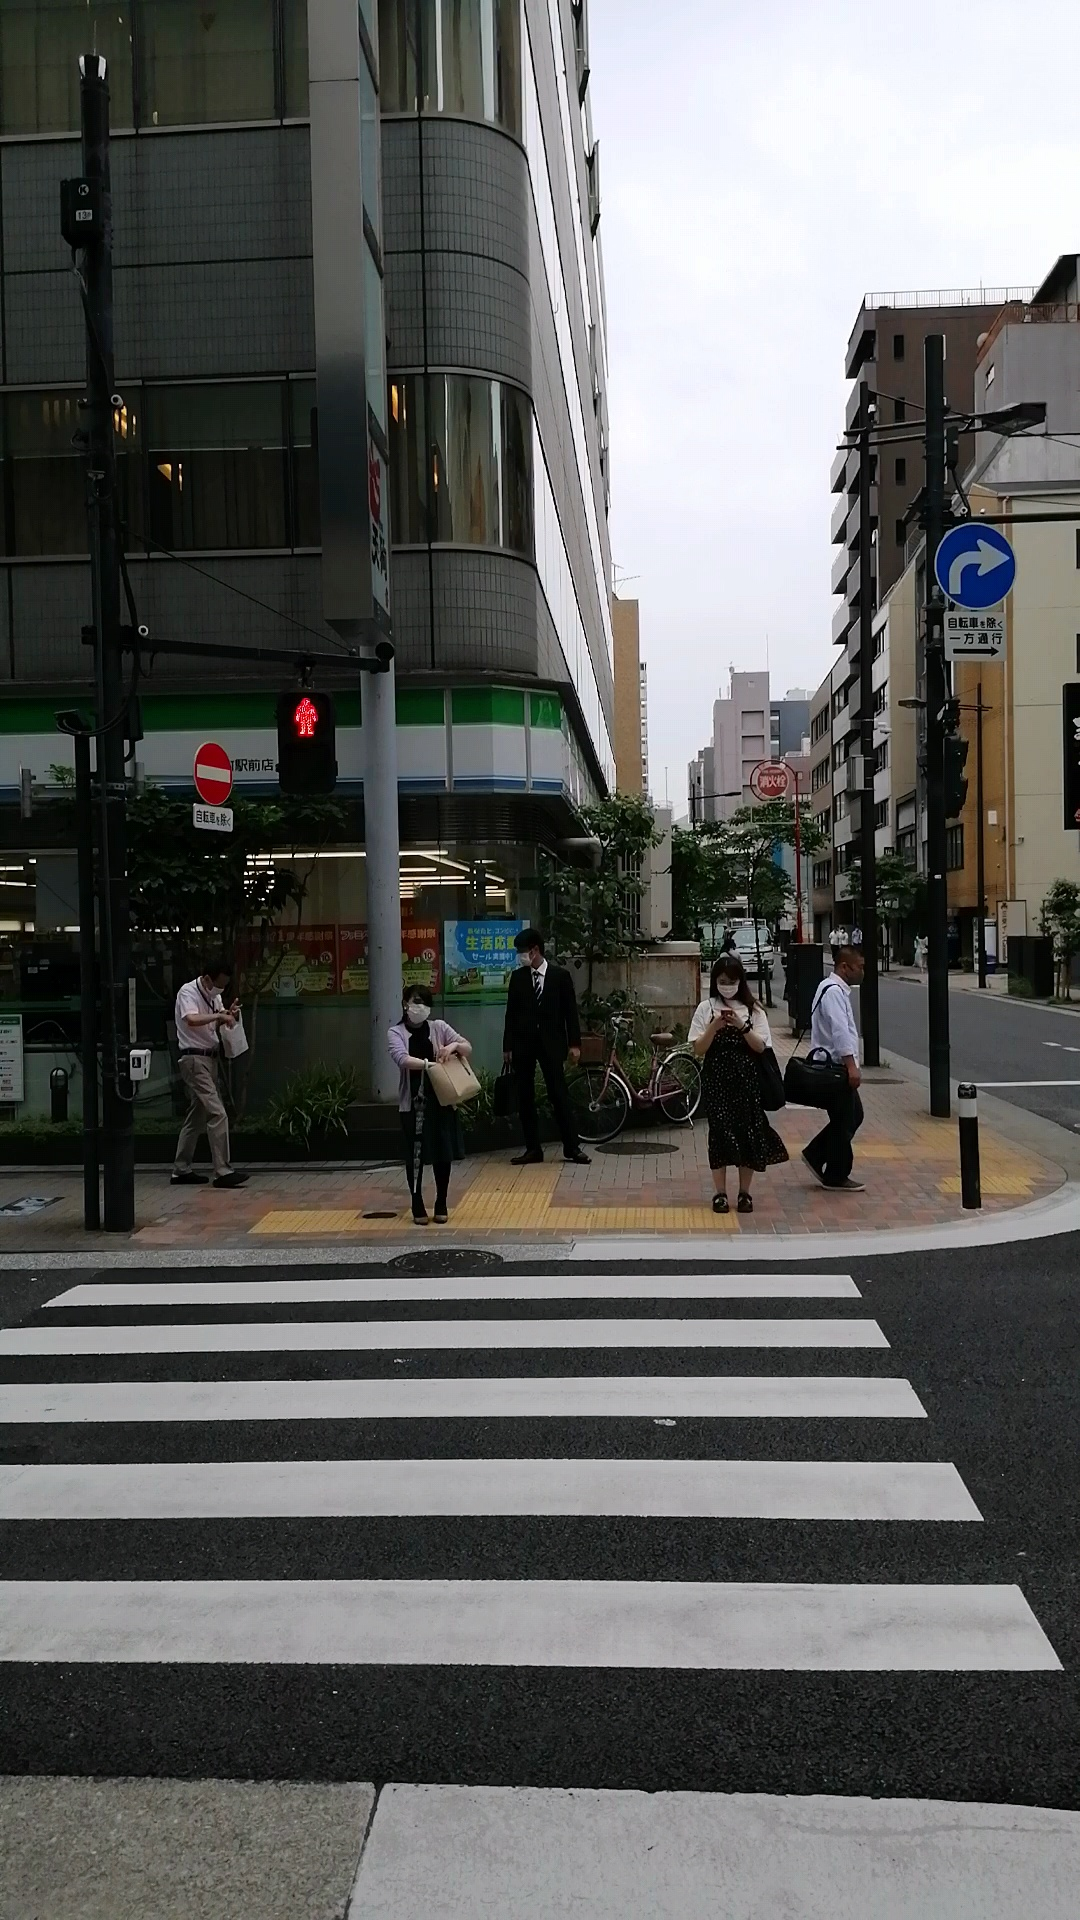red: (278, 690, 336, 795)
